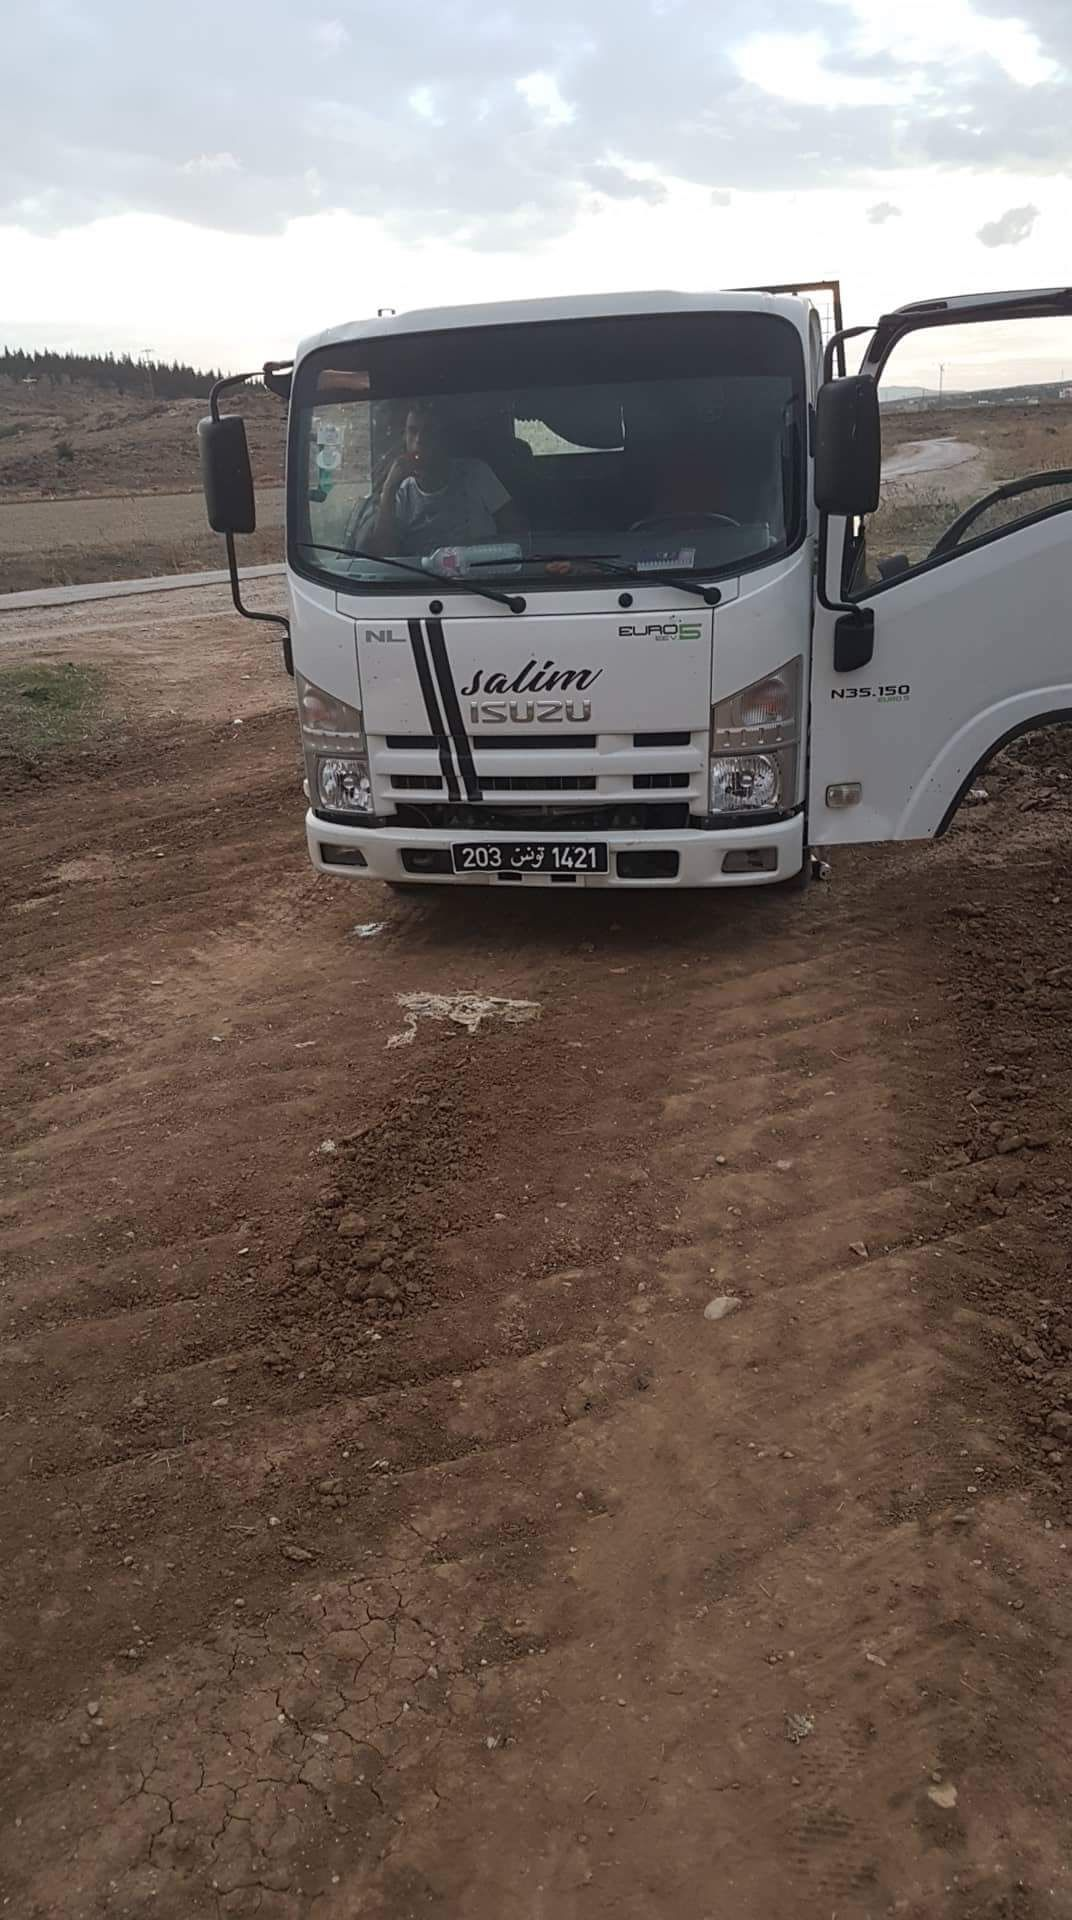LP: (453, 841, 610, 878)
